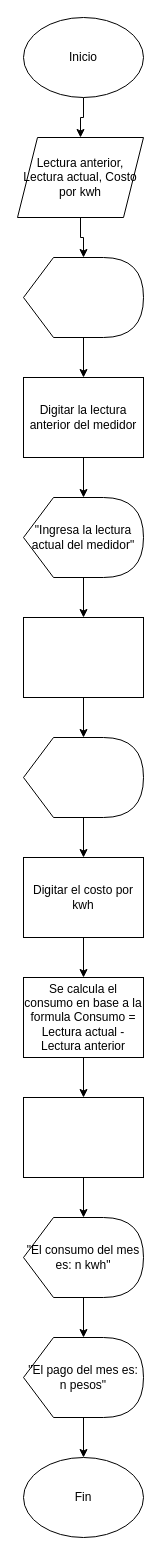
Some shapes in this 161 by 1555 pixel diagram are drawn without their labels. Each missing label, with the centre of its shape:
"Ingresa el costo por kwh": point (83, 777)
"Ingrese la lectura anterior del medidor": point (83, 297)
Digitar la lectura actual del medidor: point (83, 657)
Se calcula el pago en base a la formula Pago = Consumo * Costo por kwh: point (83, 1137)
